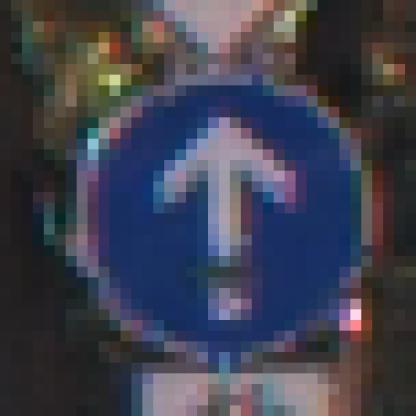AheadOnly: (56, 54, 351, 353)
